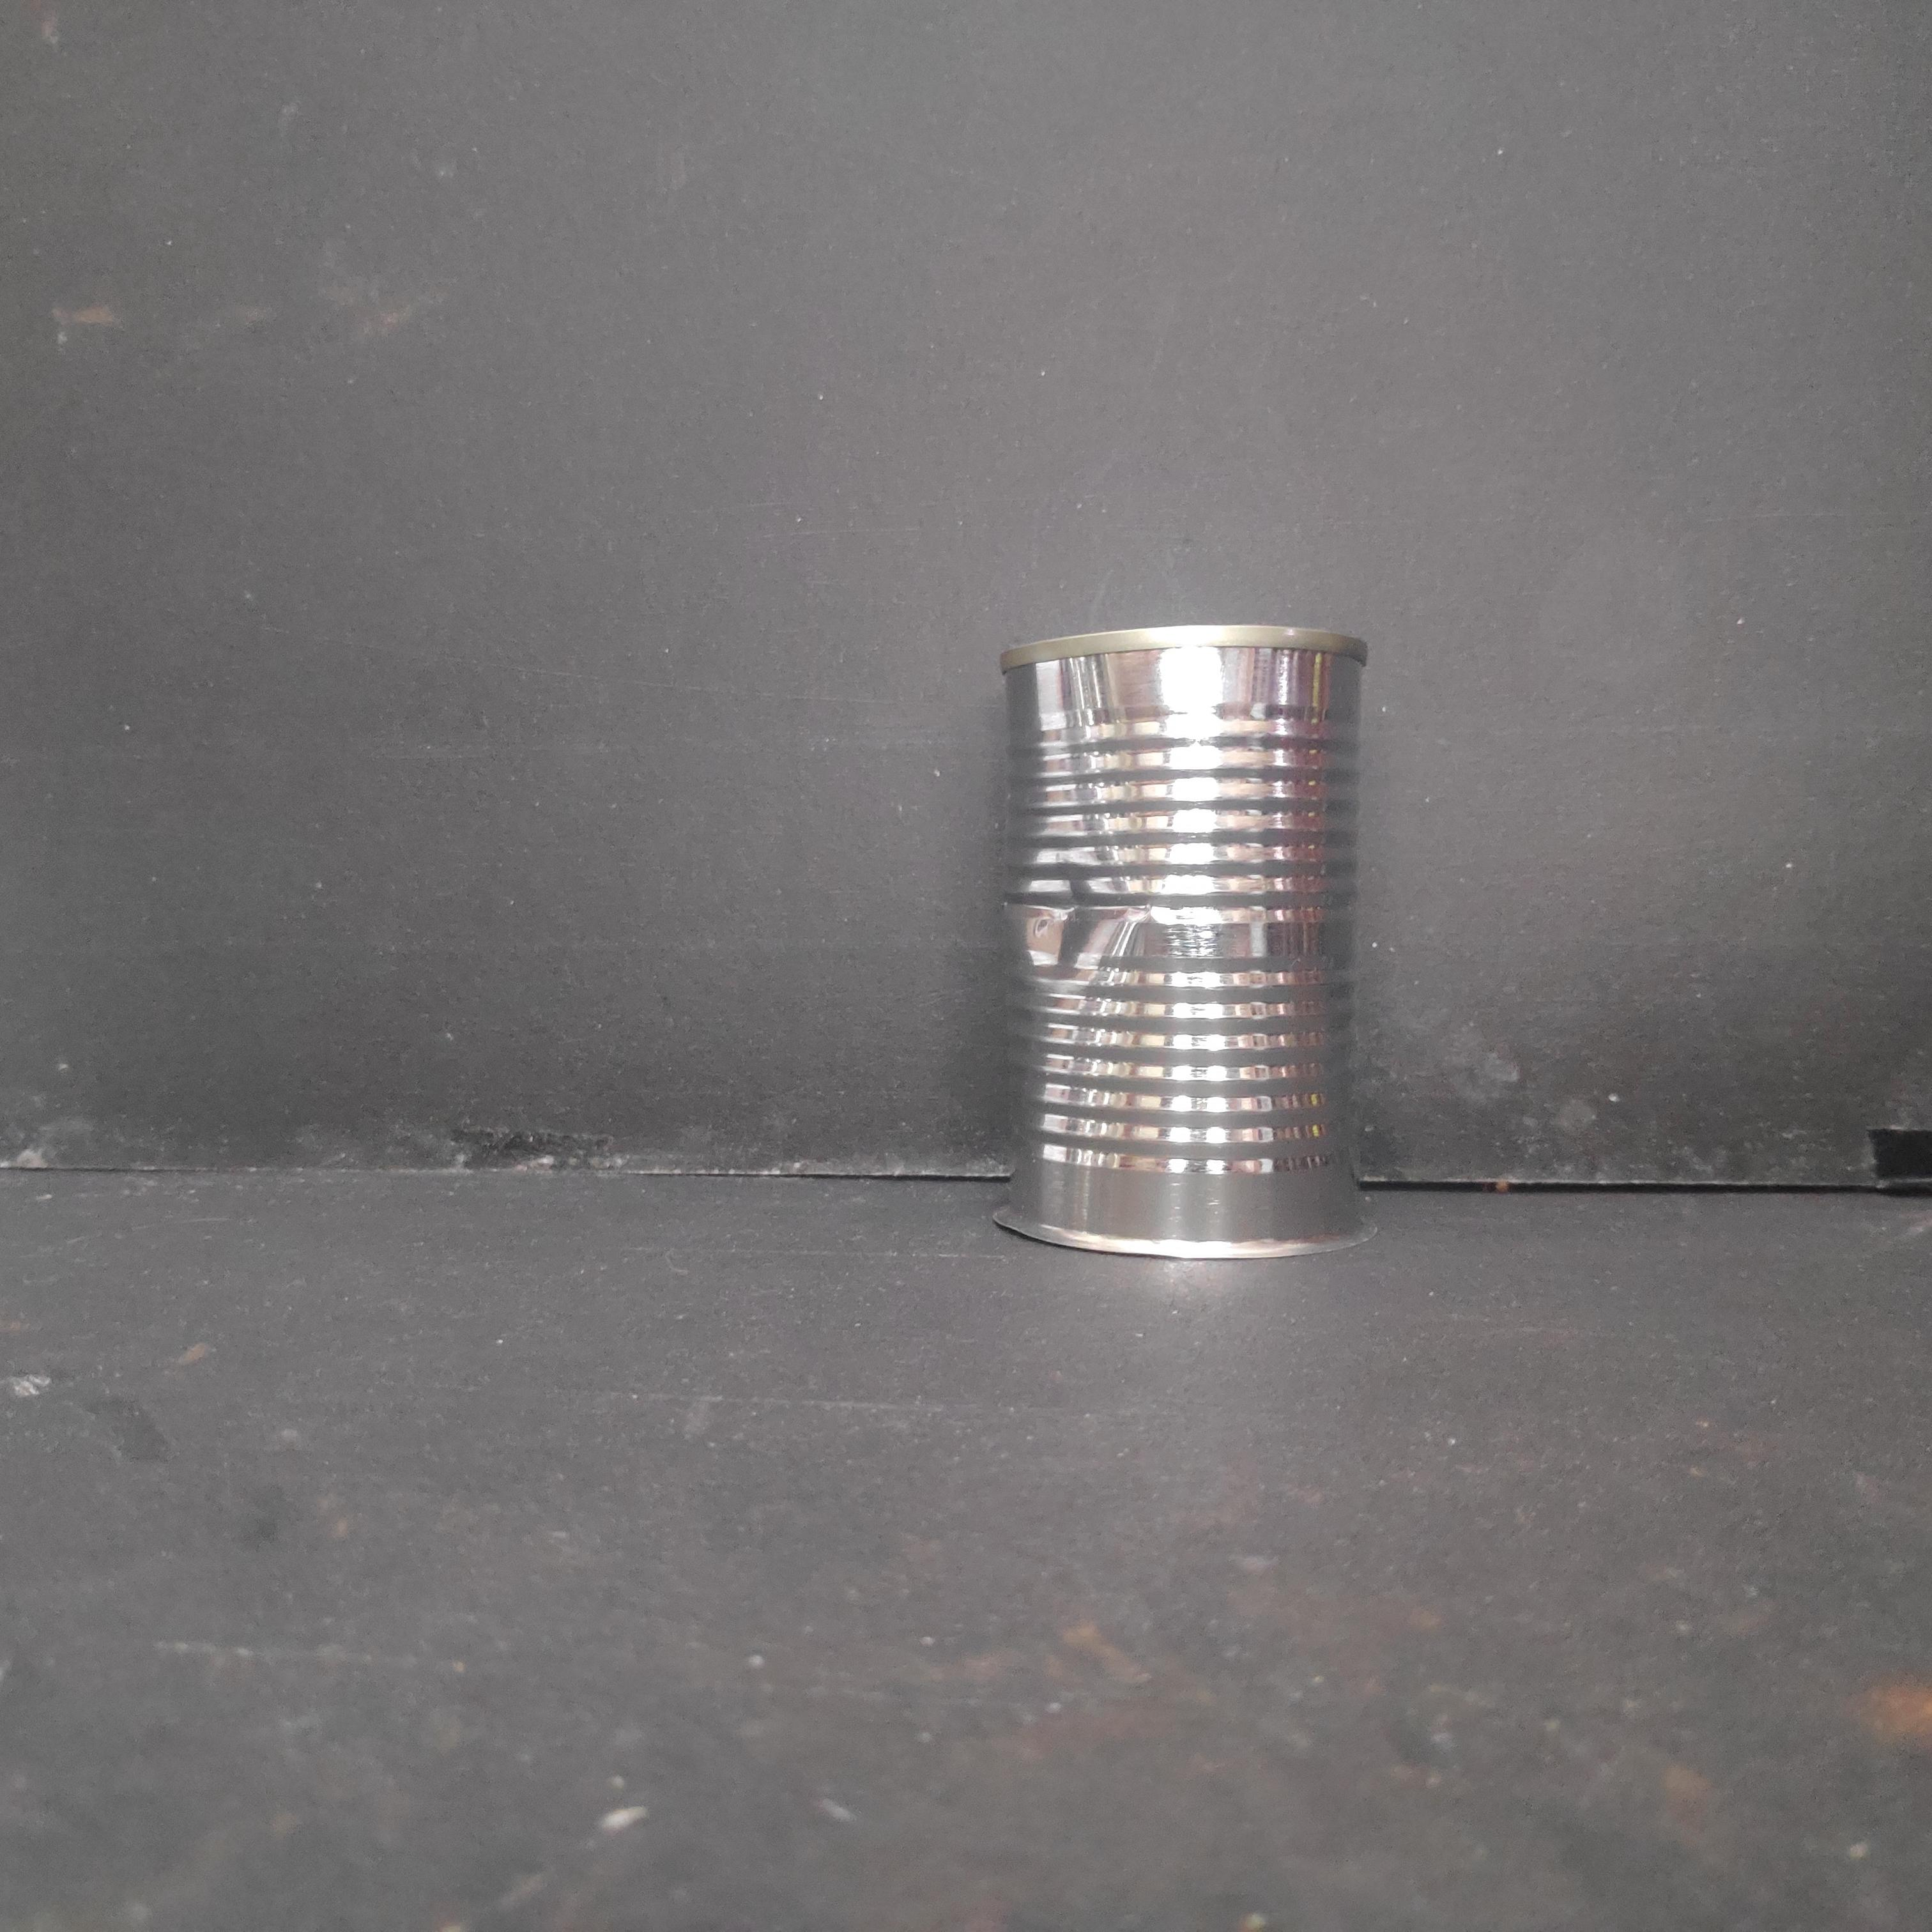Minor Defect: (988, 617, 1379, 1275)
